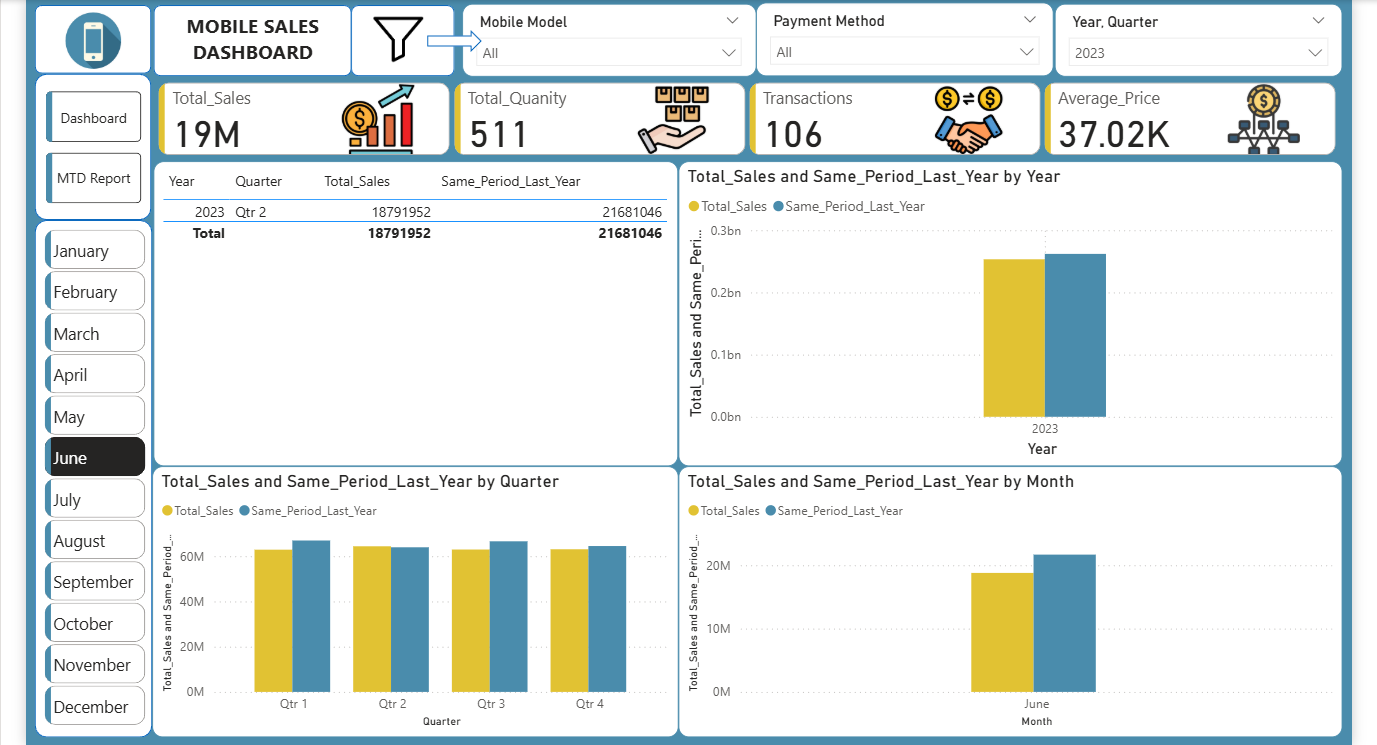

This screenshot's page, from the dashboard's own definition file:
{"tool":"powerbi","page":{"name":"Same Period Last Year","canvas":[1280,720],"ordinal":2},"visuals":[{"type":"shape","box":[8.8,5,112.5,66.2],"z":0},{"type":"image","box":[32.6,7.2,65.1,63.9],"z":1000},{"type":"shape","box":[8.8,71.2,112.5,141.2],"z":2000},{"type":"shape","box":[8.4,212.3,113.4,499.5],"z":3000},{"type":"advancedSlicerVisual","fields":{"Values":["Custom_Calendar.Date.Variation.Date Hierarchy.Month"]},"box":[13.3,220.8,103.8,482.6],"z":4000},{"type":"slicer","fields":{"Values":["Mobile_Sales_Data.Mobile Model"]},"box":[421.2,3.8,283.8,70],"z":6000},{"type":"slicer","fields":{"Values":["Mobile_Sales_Data.Payment Method"]},"box":[705,2.5,287.5,71.2],"z":7000},{"type":"slicer","fields":{"Values":["Custom_Calendar.Date.Variation.Date Hierarchy.Year","Custom_Calendar.Date.Variation.Date Hierarchy.Quarter"]},"box":[992.5,3.8,277.5,70],"z":8000},{"type":"shape","box":[313.8,5,100,68.8],"z":9000},{"type":"image","box":[330,5,57.5,66.2],"z":10000},{"type":"shape","box":[387.5,28.8,52.5,21.2],"z":11000},{"type":"shape","box":[122.5,5,191.2,68.8],"z":12000},{"type":"textbox","box":[132.5,7.5,172.5,63.8],"z":13000},{"type":"tableEx","fields":{"Values":["Custom_Calendar.Date.Variation.Date Hierarchy.Year","Custom_Calendar.Date.Variation.Date Hierarchy.Quarter","Mobile_Sales_Data.Total_Sales","Mobile_Sales_Data.Same_Period_Last_Year"]},"box":[123.1,155.6,506.7,294.4],"z":14000},{"type":"clusteredColumnChart","fields":{"Category":["Custom_Calendar.Date.Variation.Date Hierarchy.Year","Custom_Calendar.Date.Variation.Date Hierarchy.Quarter"],"Y":["Mobile_Sales_Data.Total_Sales","Mobile_Sales_Data.Same_Period_Last_Year"]},"box":[629.8,155.6,640.6,294.4],"z":15000},{"type":"clusteredColumnChart","fields":{"Category":["Custom_Calendar.Date.Variation.Date Hierarchy.Year","Custom_Calendar.Date.Variation.Date Hierarchy.Quarter"],"Y":["Mobile_Sales_Data.Total_Sales","Mobile_Sales_Data.Same_Period_Last_Year"]},"box":[121.9,450,507.9,261.8],"z":16000},{"type":"clusteredColumnChart","fields":{"Category":["Custom_Calendar.Date.Variation.Date Hierarchy.Year","Custom_Calendar.Date.Variation.Date Hierarchy.Quarter","Custom_Calendar.Date.Variation.Date Hierarchy.Month"],"Y":["Mobile_Sales_Data.Total_Sales","Mobile_Sales_Data.Same_Period_Last_Year"]},"box":[629.8,450,640.6,261.8],"z":17000},{"type":"pageNavigator","box":[19.3,88.1,92.9,108.6],"z":18000},{"type":"cardVisual","fields":{"Data":["Mobile_Sales_Data.Total_Sales","Mobile_Sales_Data.Total_Quanity","Mobile_Sales_Data.Transactions","Mobile_Sales_Data.Average_Price"]},"box":[123.1,74.8,1147.3,80.8],"z":18001}]}

Visuals, with their boxes on the page's 1280x720 design canvas (x1, y1, x2, y2). These are canvas units, not pixel positions in the 1377x745 screenshot, which may show the page scaled, cropped or inside an application window:
shape: select_region(9, 5, 121, 71)
image: select_region(33, 7, 98, 71)
shape: select_region(9, 71, 121, 212)
shape: select_region(8, 212, 122, 712)
advancedSlicerVisual - Custom_Calendar.Date.Variation.Date Hierarchy.Month: select_region(13, 221, 117, 703)
slicer - Mobile_Sales_Data.Mobile Model: select_region(421, 4, 705, 74)
slicer - Mobile_Sales_Data.Payment Method: select_region(705, 2, 992, 74)
slicer - Custom_Calendar.Date.Variation.Date Hierarchy.Year x Custom_Calendar.Date.Variation.Date Hierarchy.Quarter: select_region(992, 4, 1270, 74)
shape: select_region(314, 5, 414, 74)
image: select_region(330, 5, 388, 71)
shape: select_region(388, 29, 440, 50)
shape: select_region(122, 5, 314, 74)
textbox: select_region(132, 8, 305, 71)
tableEx - Custom_Calendar.Date.Variation.Date Hierarchy.Year x Custom_Calendar.Date.Variation.Date Hierarchy.Quarter: select_region(123, 156, 630, 450)
clusteredColumnChart - Custom_Calendar.Date.Variation.Date Hierarchy.Year x Custom_Calendar.Date.Variation.Date Hierarchy.Quarter: select_region(630, 156, 1270, 450)
clusteredColumnChart - Custom_Calendar.Date.Variation.Date Hierarchy.Year x Custom_Calendar.Date.Variation.Date Hierarchy.Quarter: select_region(122, 450, 630, 712)
clusteredColumnChart - Custom_Calendar.Date.Variation.Date Hierarchy.Year x Custom_Calendar.Date.Variation.Date Hierarchy.Quarter: select_region(630, 450, 1270, 712)
pageNavigator: select_region(19, 88, 112, 197)
cardVisual - Mobile_Sales_Data.Total_Sales x Mobile_Sales_Data.Total_Quanity: select_region(123, 75, 1270, 156)
